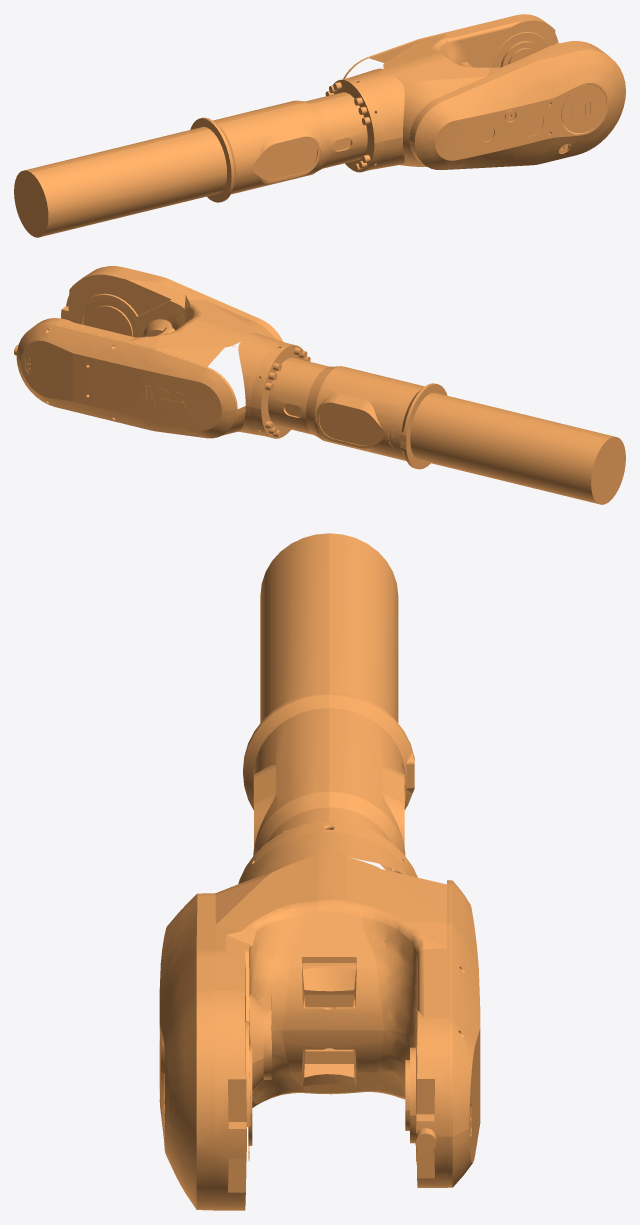
3 views of the same model, one above another, from view 1: azimuth 30°, elevation 25°; view 2: azimuth 150°, elevation 25°; view 3: azimuth 270°, elevation 25° (orthographic). The views are drawn at different scales.
Parts seen in each view (by area): view 1: mesh_0; view 2: mesh_0; view 3: mesh_0.
Part boxes in pixels (box(x1,y1,x2,y2)): mesh_0: box(14, 14, 625, 237); mesh_0: box(14, 266, 625, 504); mesh_0: box(159, 533, 480, 1210).
Size of the model in its own units: 1.6 by 0.284 by 0.395.
